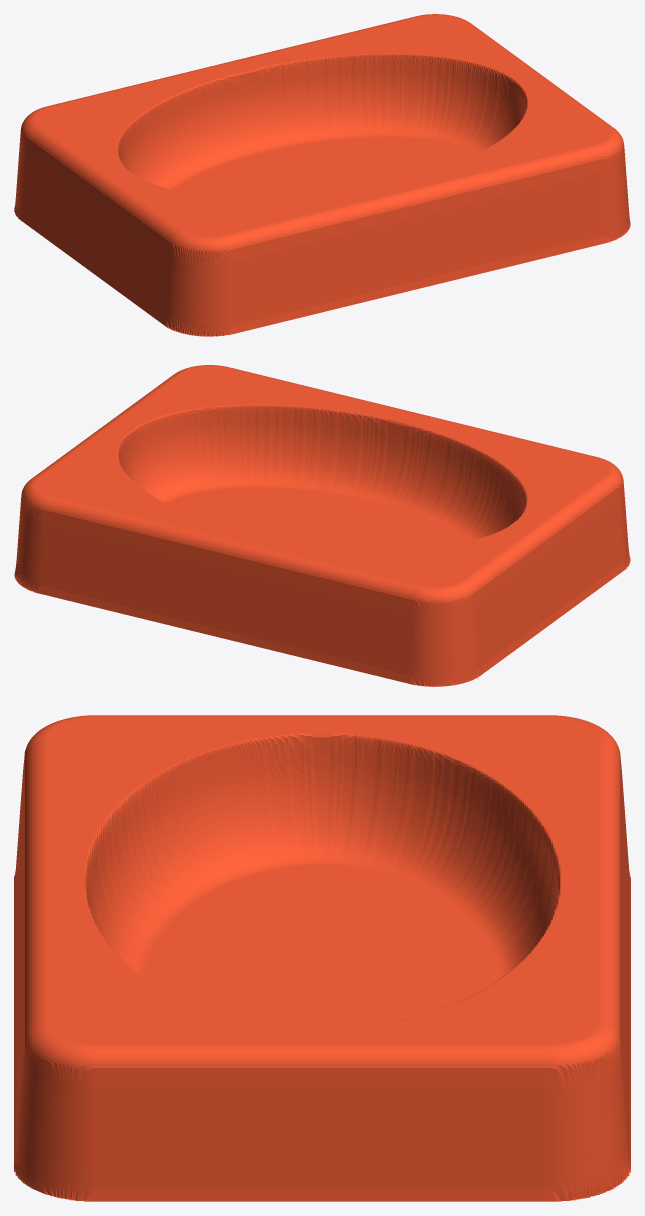
Rendered from mold.glb.
The picture shows the model from 3 angles, top to bottom: view 1: azimuth 30°, elevation 25°; view 2: azimuth 150°, elevation 25°; view 3: azimuth 270°, elevation 25°; orthographic projection. The views are drawn at different scales.
Parts seen in each view (by area): view 1: geometry_0; view 2: geometry_0; view 3: geometry_0.
Part boxes in pixels (bbox=[...]): geometry_0: bbox=[14, 14, 630, 336]; geometry_0: bbox=[14, 365, 630, 686]; geometry_0: bbox=[14, 715, 630, 1201].
Bounding box in the file's own units: 0.0924 × 0.0175 × 0.068.
